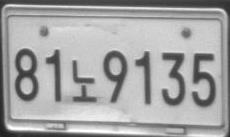1: (42, 48, 69, 102), (132, 50, 158, 105)
3: (161, 51, 186, 106)
5: (191, 52, 217, 107)
8: (13, 47, 39, 102)
9: (102, 49, 128, 103)
노: (70, 59, 97, 102)
